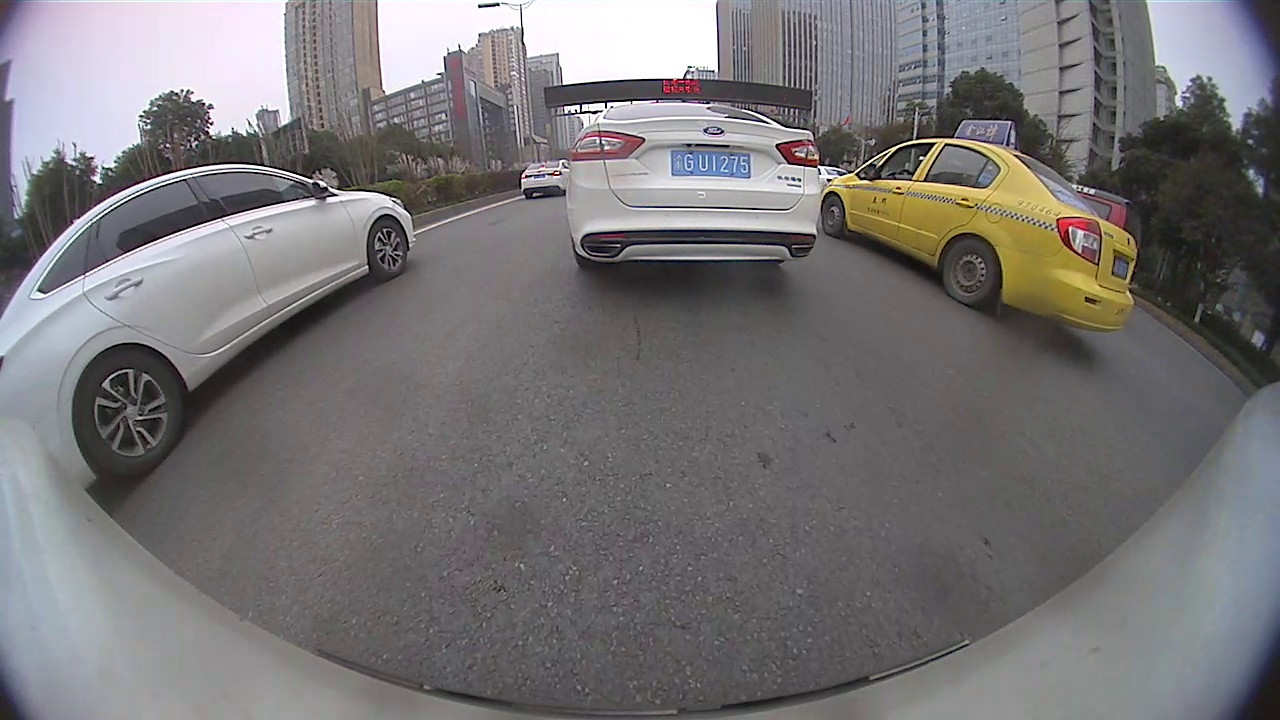car: (1, 162, 415, 490), (820, 119, 1136, 333), (565, 102, 822, 268), (520, 159, 571, 199)
front: (366, 213, 410, 281), (818, 194, 847, 239)
rear: (69, 343, 190, 484), (940, 237, 1000, 307)
